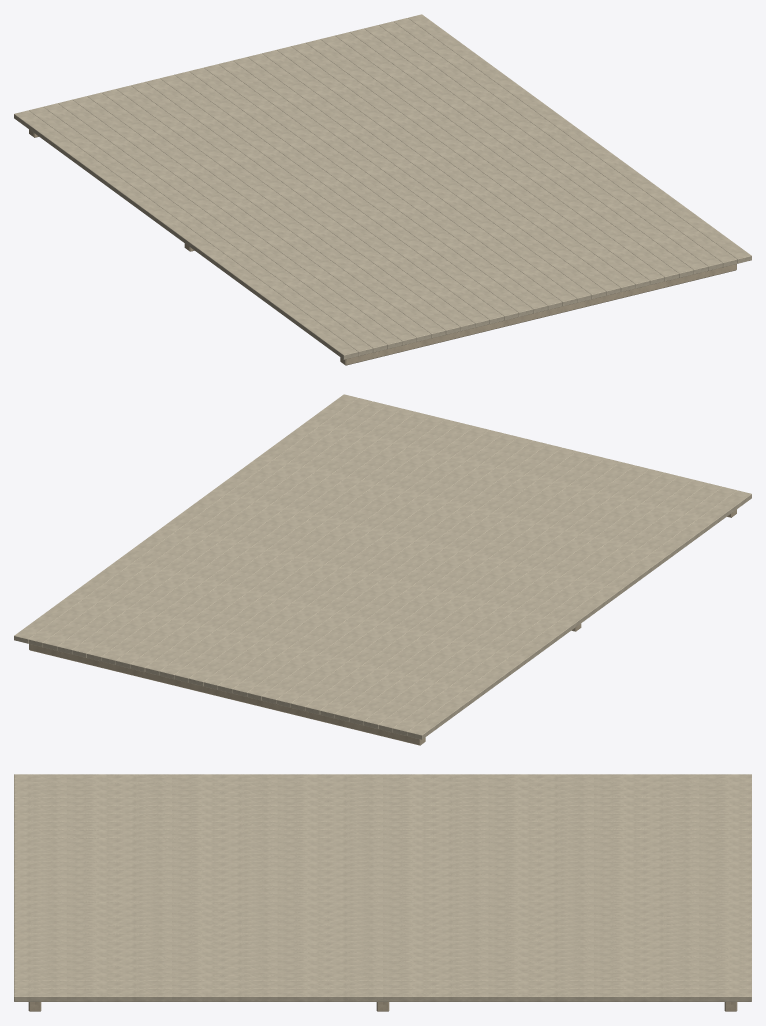
Rendered from cabin_ceiling.glb.
The picture shows the model from 3 angles, top to bottom: view 1: azimuth 30°, elevation 25°; view 2: azimuth 150°, elevation 25°; view 3: azimuth 270°, elevation 25°; orthographic projection. The views are drawn at different scales.
Visible parts, largest first — view 1: Ceiling; view 2: Ceiling; view 3: Ceiling.
Part boxes in pixels (bbox=[...]): Ceiling: bbox=[14, 14, 751, 365]; Ceiling: bbox=[14, 394, 751, 745]; Ceiling: bbox=[14, 774, 751, 1011].
Bounding box in the file's own units: 5 × 0.2075 × 7.
Materials: 2 (2 with a texture image).
